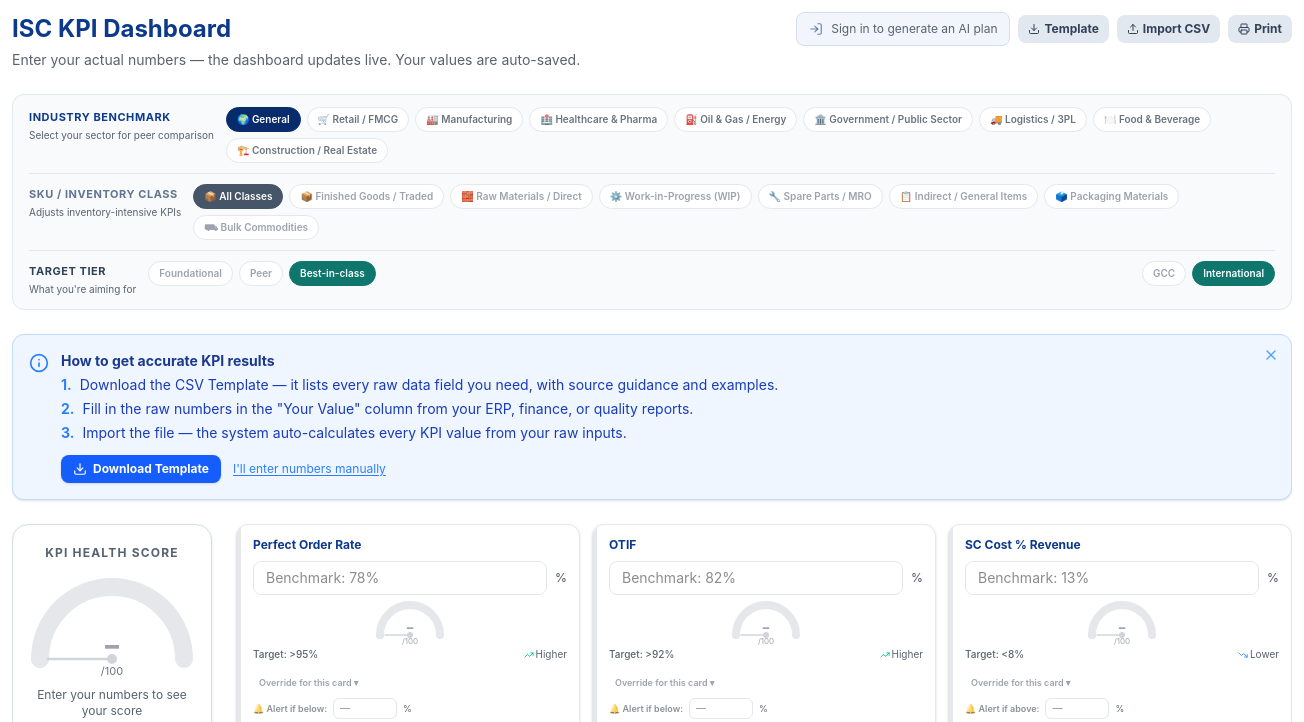
it: KPIDashboard — coverage / source-quality badge (#382) › shows Context-specific badges on the Perfect Order Rate card after selecting Government / Public Sector
Click the button "🏛️ Government / Public Sector". click: (888, 120)
box: [803, 107, 973, 132]
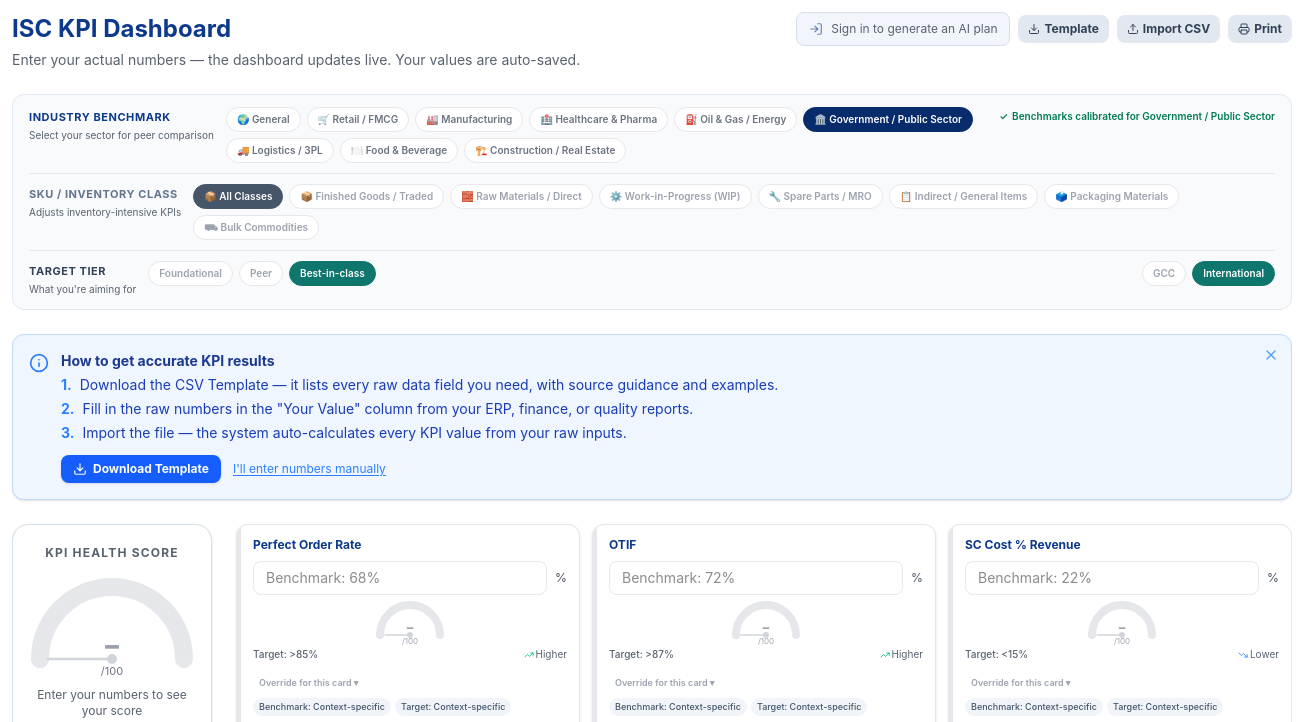
Check: the text "Benchmark: Context-specific" below "Target: >85%" is shown, box [259, 701, 385, 712]
Check: the text "Target: Context-specific" below "Target: >85%" is shown, box [401, 701, 505, 712]
